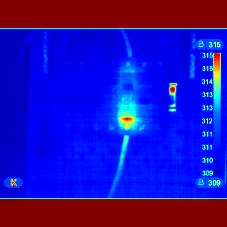Critical: (115, 104, 150, 142)
